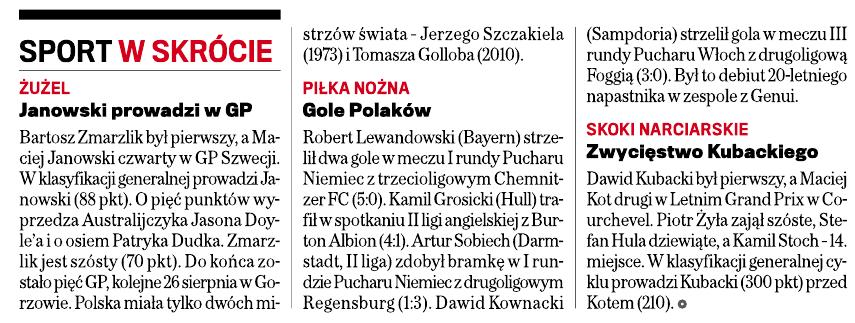body: (579, 14, 854, 314), (297, 16, 569, 316), (7, 73, 285, 316)
title: (12, 21, 279, 67)
